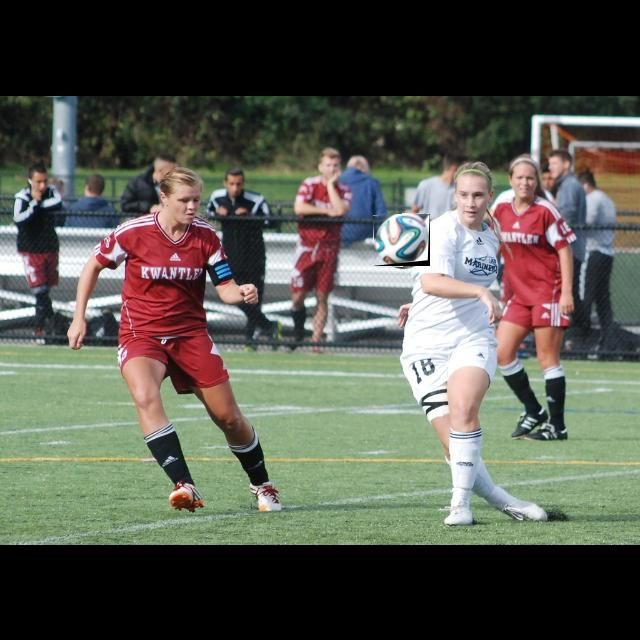Football: (374, 214, 430, 266)
